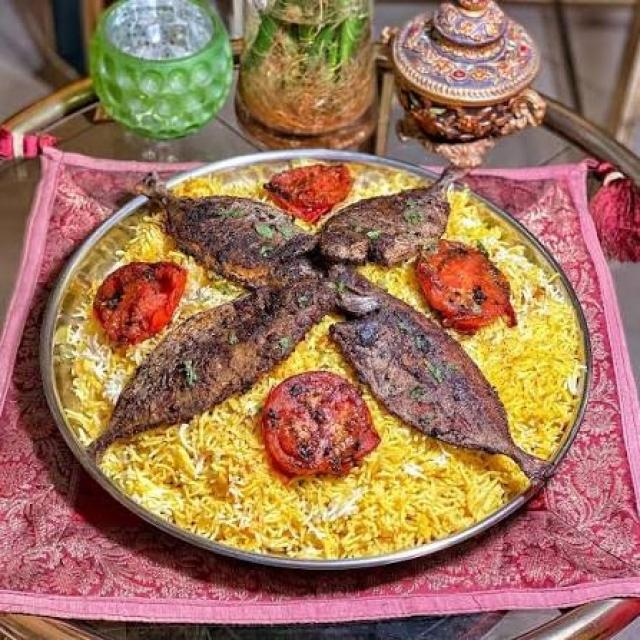Fried Fish: (106, 148, 578, 552)
